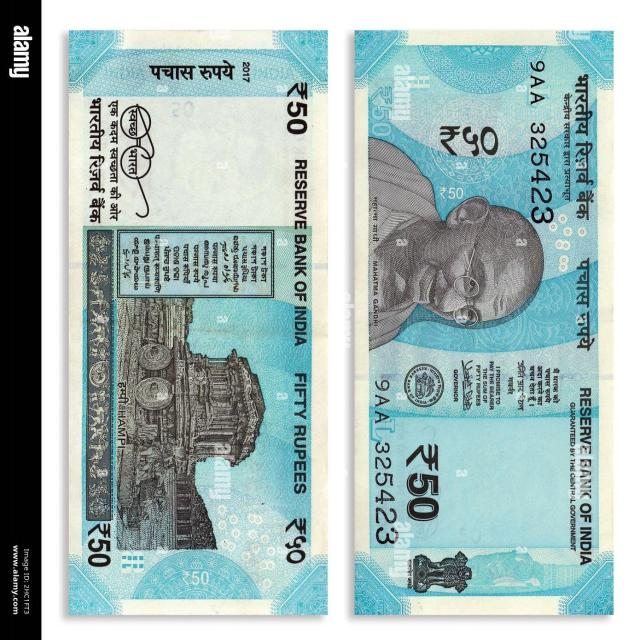50IndianRupees: (69, 30, 328, 615)
